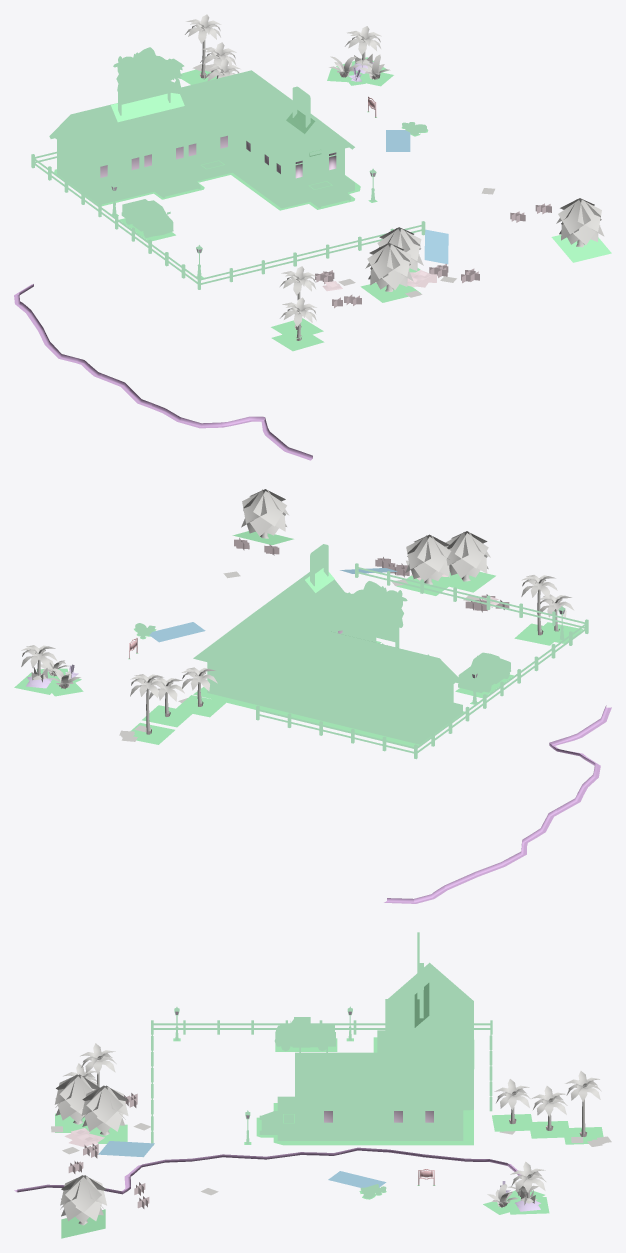
3 views of the same model, one above another, from view 1: azimuth 30°, elevation 25°; view 2: azimuth 150°, elevation 25°; view 3: azimuth 270°, elevation 25° (orthographic). The views are drawn at different scales.
Visible parts, largest first — view 1: map1; view 2: map1; view 3: map1.
Part boxes in pixels (x1,y1,x2,y2): map1: (14, 14, 611, 460); map1: (14, 489, 611, 903); map1: (14, 932, 611, 1238).
Size of the model in its own units: 3675 by 2218 by 4558.
